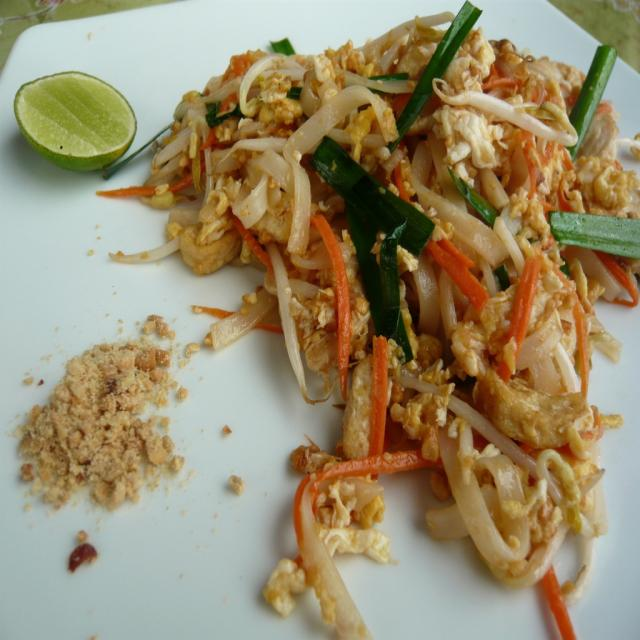Lemon: (15, 69, 138, 174)
